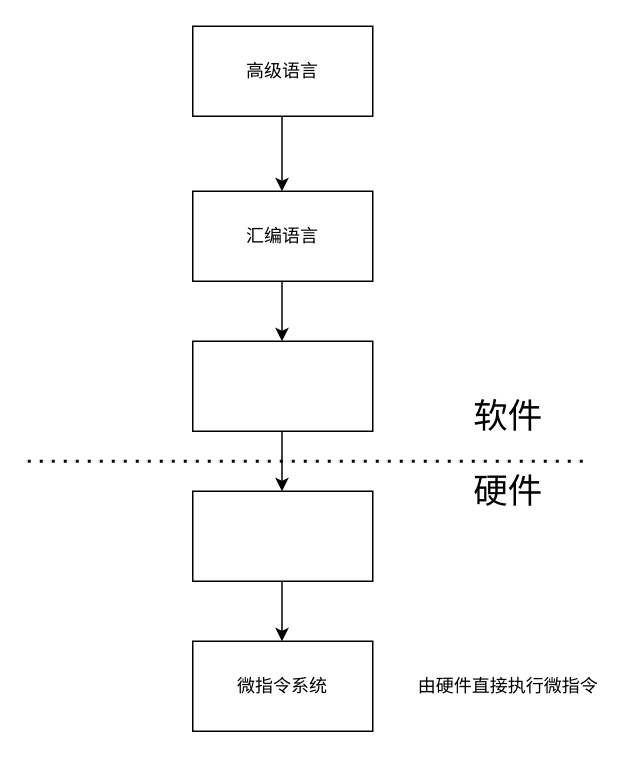
Some shapes in this 638 by 758 pixel diagram are drawn without their labels. Each missing label, with the centre of its shape:
"操作系统" goes at point 282,385.
"机器语言" goes at point 282,535.
